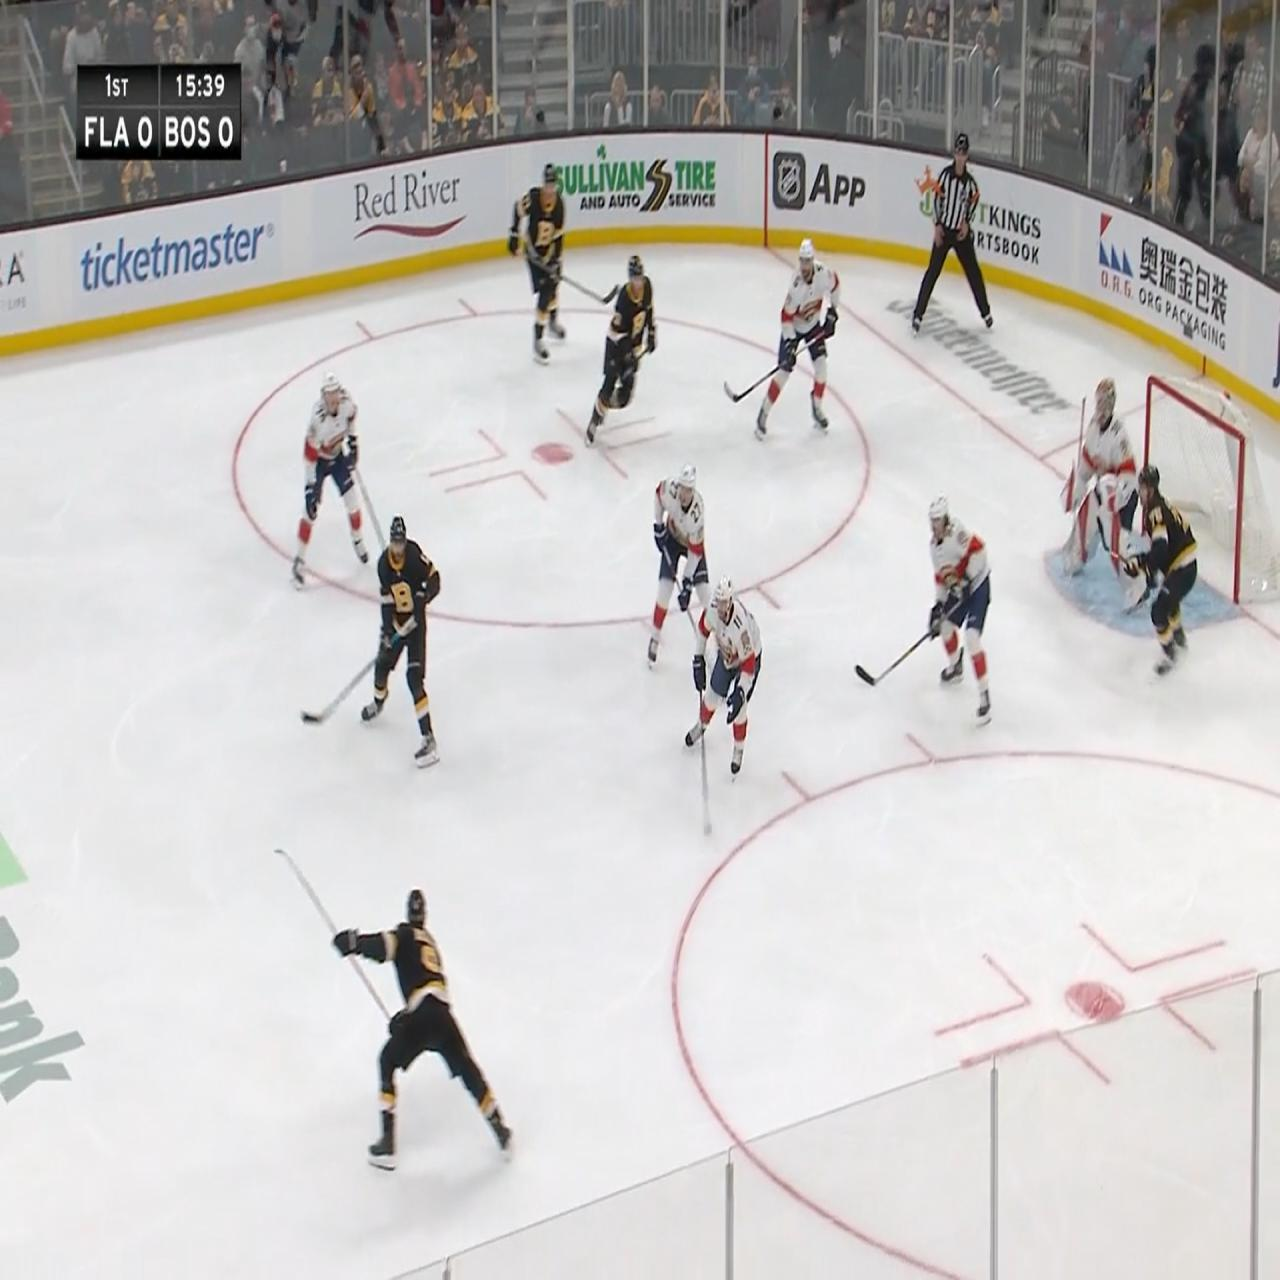Ad: (0, 790, 91, 1149), (75, 191, 279, 327), (1094, 197, 1235, 360), (914, 157, 1041, 286), (553, 139, 720, 230), (349, 151, 465, 260), (774, 139, 866, 227)
